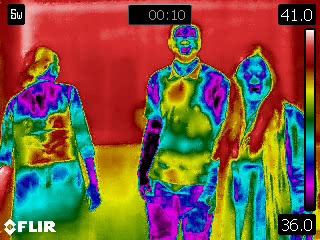human: (138, 26, 234, 240), (1, 45, 103, 232), (219, 44, 314, 240)
